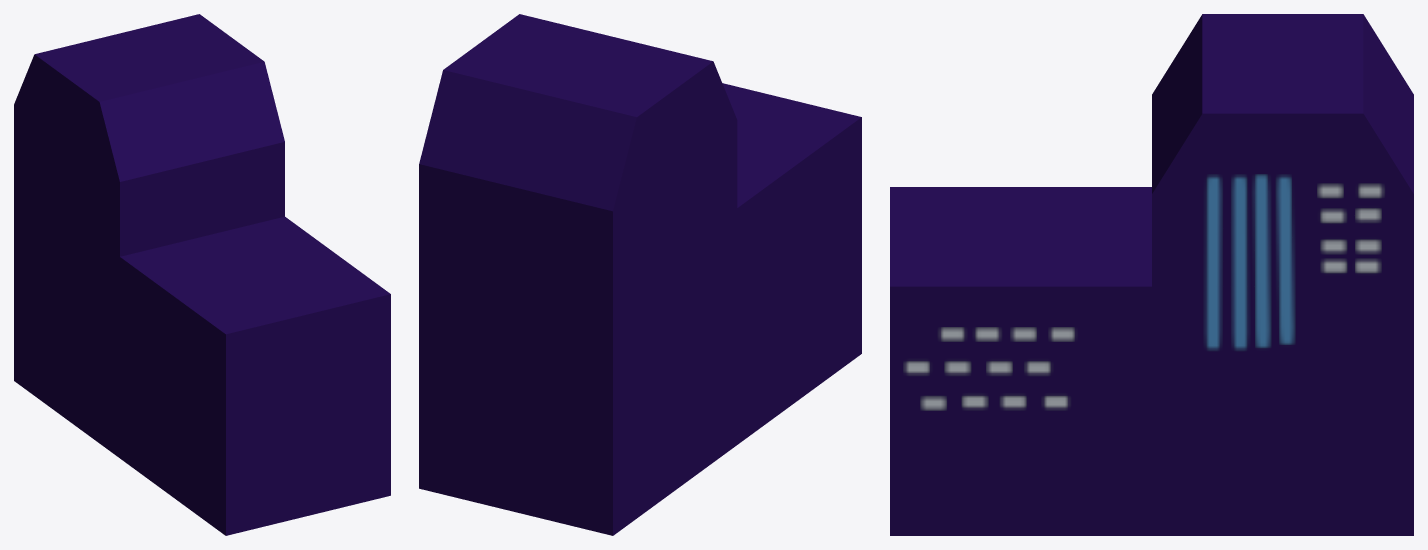
The model's file is Building4.fbx.
The picture shows the model from 3 angles, left to right: view 1: azimuth 30°, elevation 25°; view 2: azimuth 150°, elevation 25°; view 3: azimuth 270°, elevation 25°; orthographic projection. The views are drawn at different scales.
Visible parts, largest first — view 1: pCube6; view 2: pCube6; view 3: pCube6.
Boxes of the visible parts, x1,y1,x2,y2 form: pCube6: (14, 14, 390, 535); pCube6: (419, 14, 861, 535); pCube6: (890, 14, 1413, 535).
Bounding box in the file's own units: 1 × 1.98 × 2.22.
